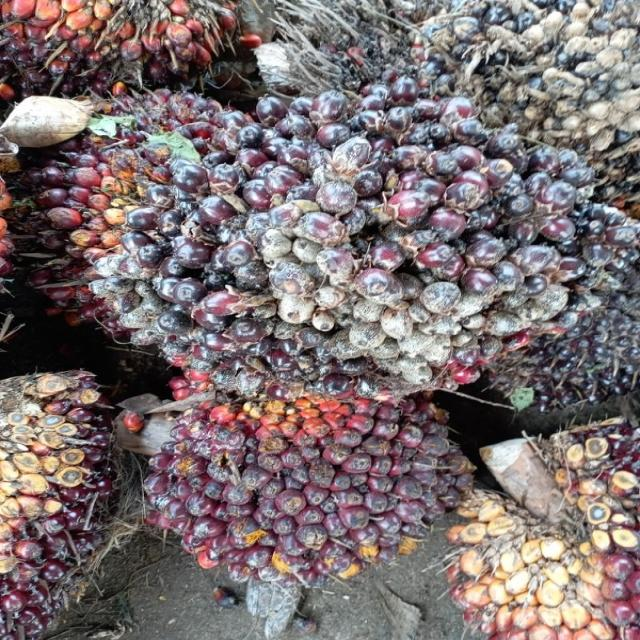fraksi 00: (128, 104, 587, 384)
fraksi 1: (138, 380, 462, 580)
